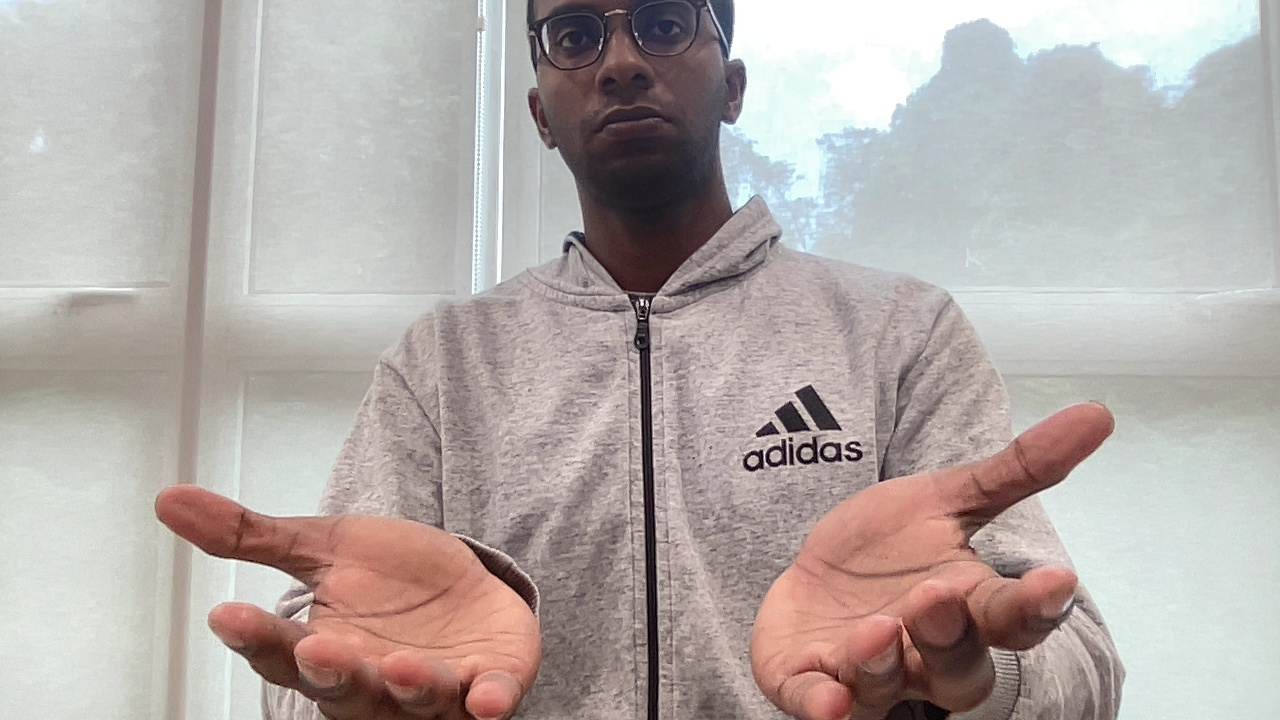give: (147, 391, 1123, 720)
